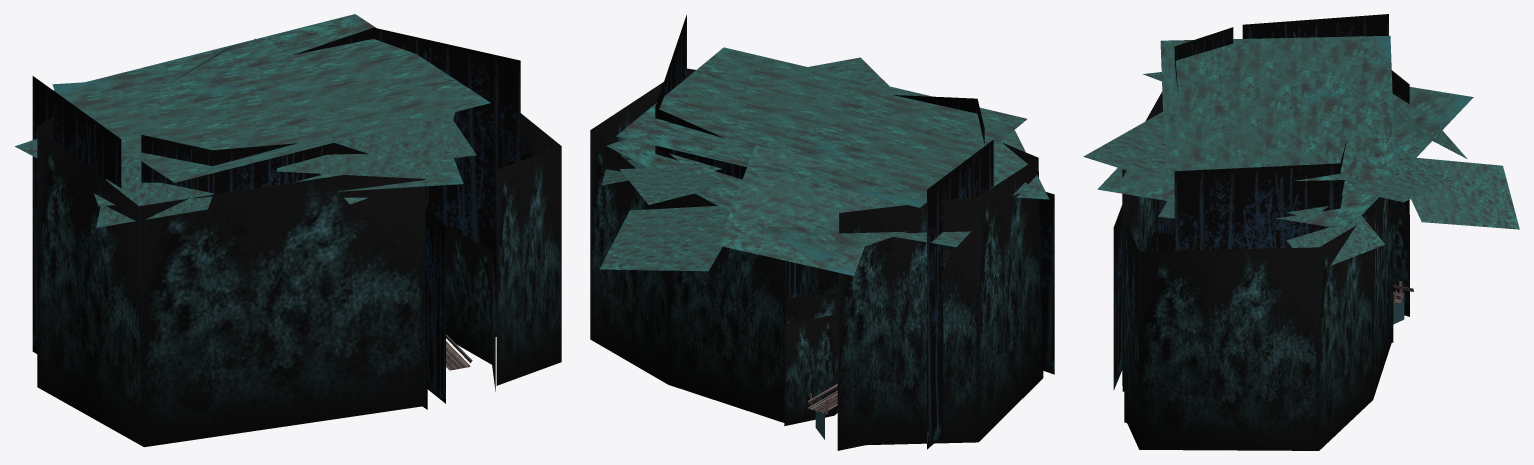
The model's file is tunnel_swamp.fbx.
3 views of the same model, side by side, from view 1: azimuth 30°, elevation 25°; view 2: azimuth 150°, elevation 25°; view 3: azimuth 270°, elevation 25° (orthographic). The views are drawn at different scales.
Parts seen in each view (by area): view 1: tunnel_wall3, swamp_tunnel_v2s1:swamp_tunnel_v2s1:polySurface512, tunnel_wall2, swamp_tunnel_v2s1:swamp_tunnel_v2s1:polySurface509, tunnel_wall1, wall4, swamp_tunnel_v2s1:swamp_tunnel_v2s1:polySurface502, polySurface512, swamp_tunnel_v2s1:swamp_tunnel_v2s1:polySurface519; view 2: tunnel_wall3, swamp_tunnel_v2s1:swamp_tunnel_v2s1:polySurface512, swamp_tunnel_v2s1:swamp_tunnel_v2s1:polySurface511, tunnel_wall2, tunnel_wall1, swamp_tunnel_v2s1:swamp_tunnel_v2s1:polySurface521, polySurface512, wall4, swamp_tunnel_v2s1:swamp_tunnel_v2s1:polySurface522, swamp_tunnel_v2s1:swamp_tunnel_v2s1:polySurface502, swamp_tunnel_v2s1:swamp_tunnel_v2s1:polySurface509, swamp_tunnel_v2s1:swamp_tunnel_v2s1:polySurface506; view 3: tunnel_wall3, swamp_tunnel_v2s1:swamp_tunnel_v2s1:polySurface512, tunnel_wall2, polySurface512, swamp_tunnel_v2s1:swamp_tunnel_v2s1:polySurface521, swamp_tunnel_v2s1:swamp_tunnel_v2s1:polySurface509, swamp_tunnel_v2s1:swamp_tunnel_v2s1:polySurface522, tunnel_wall1, swamp_tunnel_v2s1:swamp_tunnel_v2s1:polySurface523, wall4, swamp_tunnel_v2s1:swamp_tunnel_v2s1:polySurface511, swamp_tunnel_v2s1:swamp_tunnel_v2s1:polySurface518 (+1 smaller).
Boxes of the visible parts, box(x1,y1,x2,y2) form: tunnel_wall3: box(37, 113, 561, 447); swamp_tunnel_v2s1:swamp_tunnel_v2s1:polySurface512: box(53, 14, 490, 182); tunnel_wall2: box(32, 27, 520, 353); swamp_tunnel_v2s1:swamp_tunnel_v2s1:polySurface509: box(276, 112, 455, 179); tunnel_wall1: box(422, 224, 495, 409); wall4: box(425, 209, 445, 403); swamp_tunnel_v2s1:swamp_tunnel_v2s1:polySurface502: box(96, 156, 213, 227); polySurface512: box(52, 82, 463, 206); swamp_tunnel_v2s1:swamp_tunnel_v2s1:polySurface519: box(447, 120, 476, 157); tunnel_wall3: box(590, 68, 1043, 445); swamp_tunnel_v2s1:swamp_tunnel_v2s1:polySurface512: box(616, 47, 1027, 207); swamp_tunnel_v2s1:swamp_tunnel_v2s1:polySurface511: box(718, 145, 882, 275); tunnel_wall2: box(655, 14, 993, 449); tunnel_wall1: box(784, 264, 863, 450); swamp_tunnel_v2s1:swamp_tunnel_v2s1:polySurface521: box(599, 206, 729, 271); polySurface512: box(606, 139, 1034, 261); wall4: box(785, 192, 1054, 374); swamp_tunnel_v2s1:swamp_tunnel_v2s1:polySurface522: box(620, 166, 726, 204); swamp_tunnel_v2s1:swamp_tunnel_v2s1:polySurface502: box(990, 130, 1049, 199); swamp_tunnel_v2s1:swamp_tunnel_v2s1:polySurface509: box(808, 57, 889, 86); swamp_tunnel_v2s1:swamp_tunnel_v2s1:polySurface506: box(894, 231, 970, 247); tunnel_wall3: box(1122, 70, 1409, 450); swamp_tunnel_v2s1:swamp_tunnel_v2s1:polySurface512: box(1160, 35, 1395, 183); tunnel_wall2: box(1154, 14, 1388, 250); polySurface512: box(1097, 87, 1473, 229); swamp_tunnel_v2s1:swamp_tunnel_v2s1:polySurface521: box(1411, 157, 1519, 229); swamp_tunnel_v2s1:swamp_tunnel_v2s1:polySurface509: box(1083, 112, 1174, 185); swamp_tunnel_v2s1:swamp_tunnel_v2s1:polySurface522: box(1351, 149, 1455, 202); tunnel_wall1: box(1122, 201, 1409, 422); swamp_tunnel_v2s1:swamp_tunnel_v2s1:polySurface523: box(1286, 216, 1385, 265); wall4: box(1113, 205, 1122, 390); swamp_tunnel_v2s1:swamp_tunnel_v2s1:polySurface511: box(1342, 77, 1467, 158); swamp_tunnel_v2s1:swamp_tunnel_v2s1:polySurface518: box(1286, 179, 1366, 218).
Bounding box in the file's own units: 23798 × 16167 × 22890.
2 materials, 2 textured.
